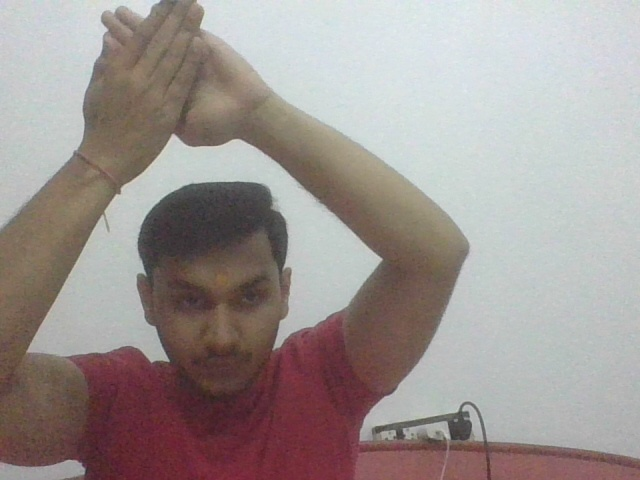H: (83, 1, 258, 156)
